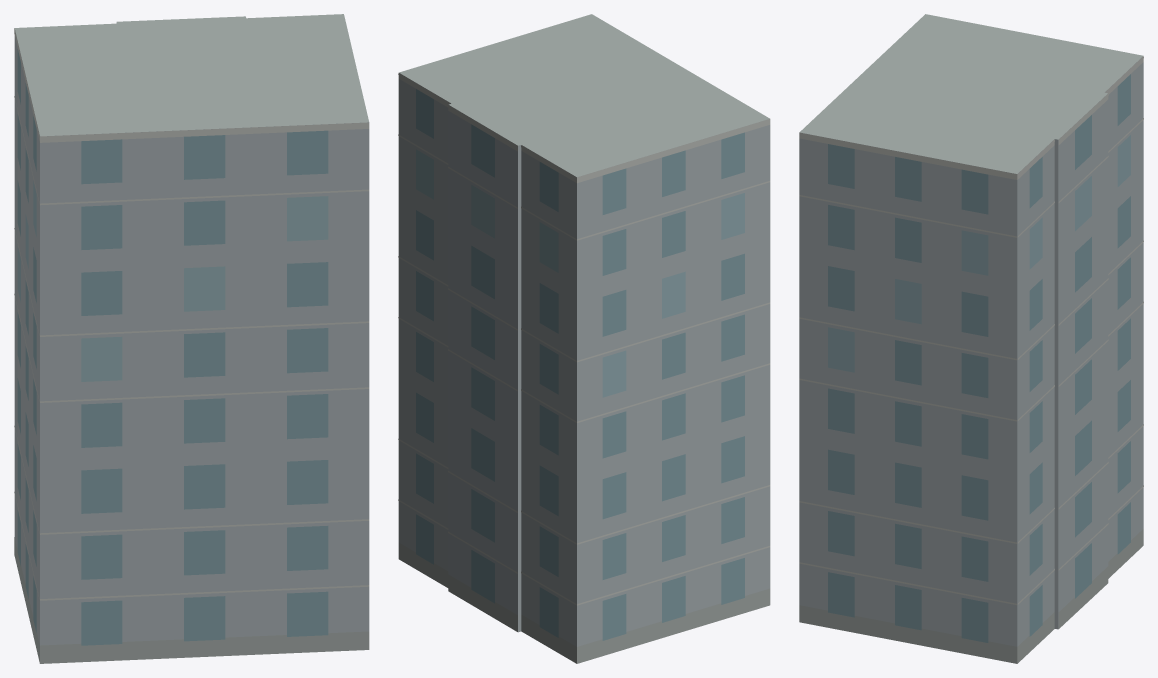
File: survey-upis-32653044.glb
The picture shows the model from 3 angles, left to right: view 1: azimuth 30°, elevation 25°; view 2: azimuth 150°, elevation 25°; view 3: azimuth 270°, elevation 25°; orthographic projection. The views are drawn at different scales.
Parts seen in each view (by area): view 1: survey-upis-32653044.tmp; view 2: survey-upis-32653044.tmp; view 3: survey-upis-32653044.tmp.
Boxes of the visible parts, left/top/right/bottom form: survey-upis-32653044.tmp: left=14, top=14, right=369, bottom=663; survey-upis-32653044.tmp: left=398, top=14, right=770, bottom=663; survey-upis-32653044.tmp: left=799, top=14, right=1143, bottom=663.
Size of the model in its own units: 13.9 by 19.8 by 12.64.
